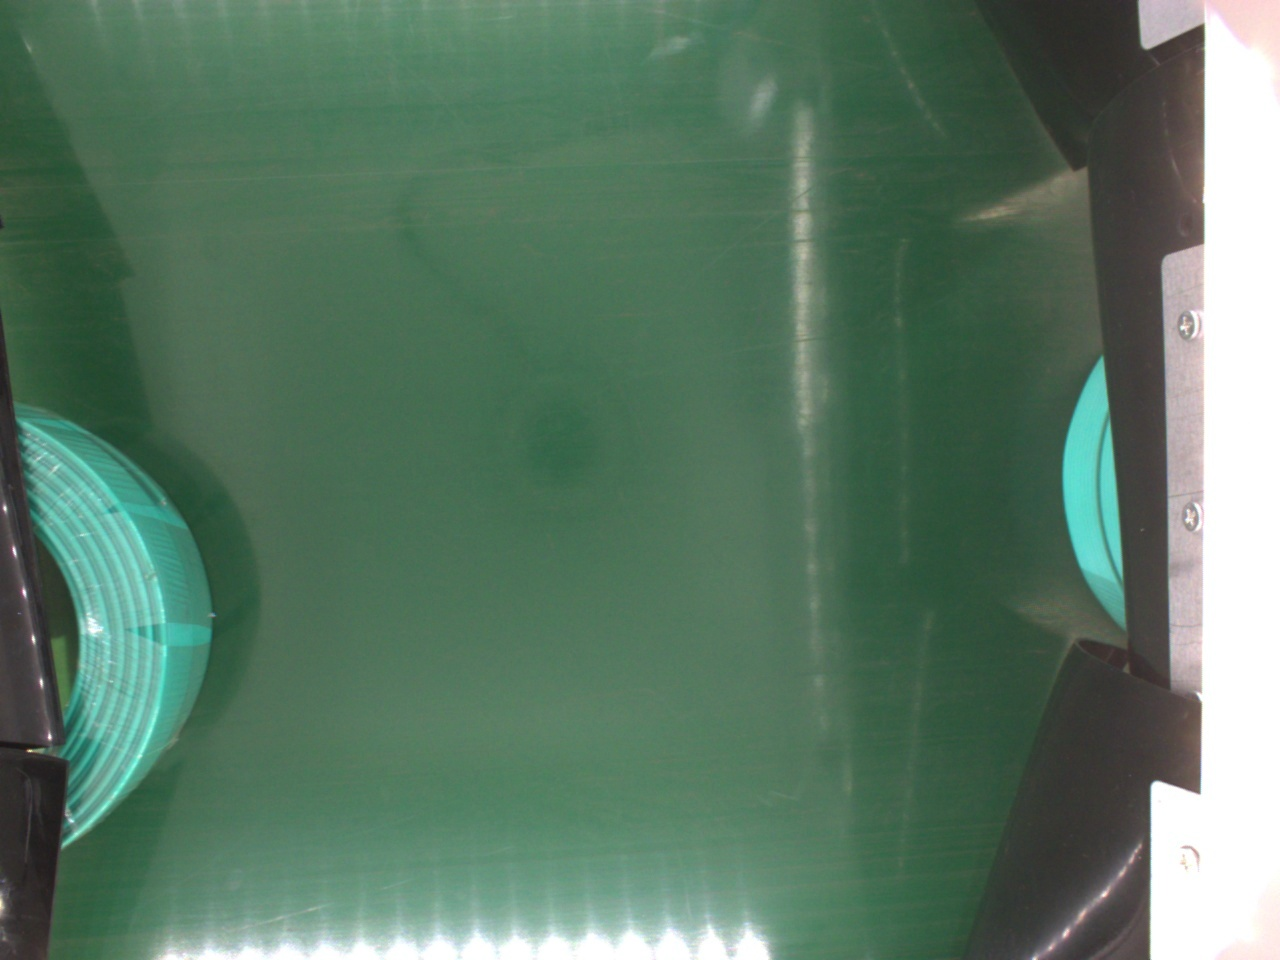green: (8, 401, 211, 859)
